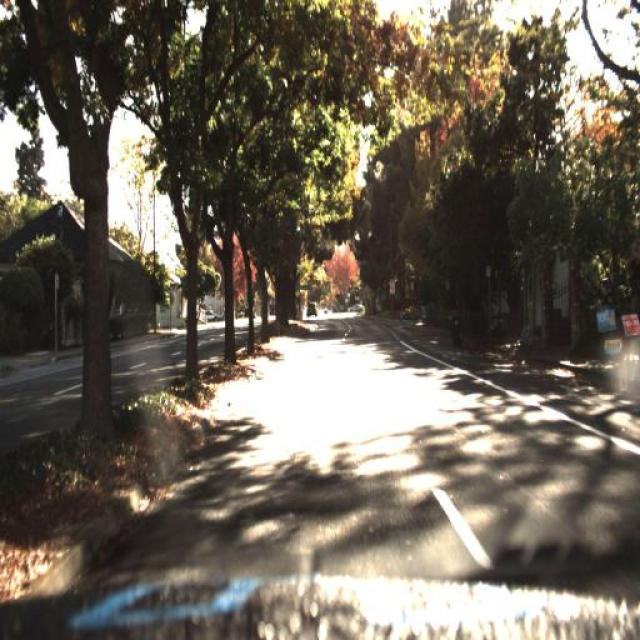car: (196, 306, 223, 330), (201, 305, 225, 326), (304, 298, 318, 322), (344, 300, 366, 314)
trafficLight-RedLeft: (350, 280, 361, 300)
